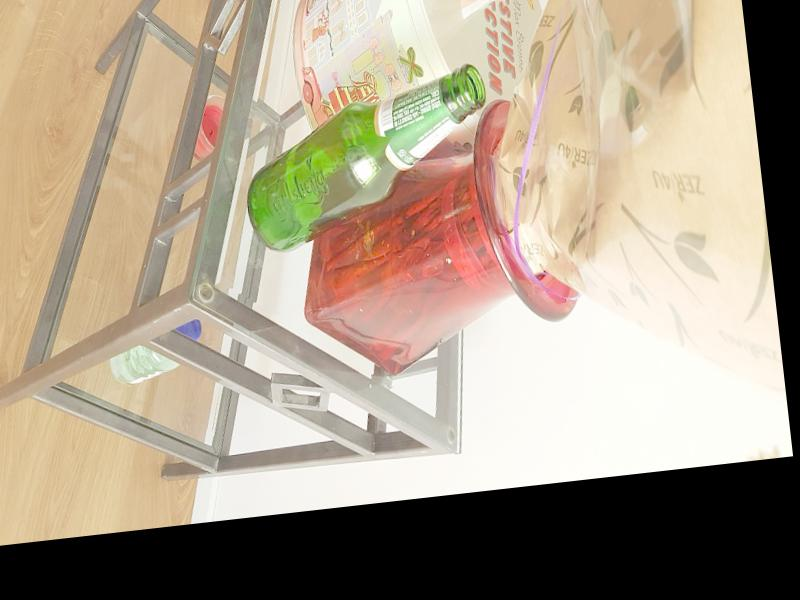Beer: (235, 65, 500, 255)
